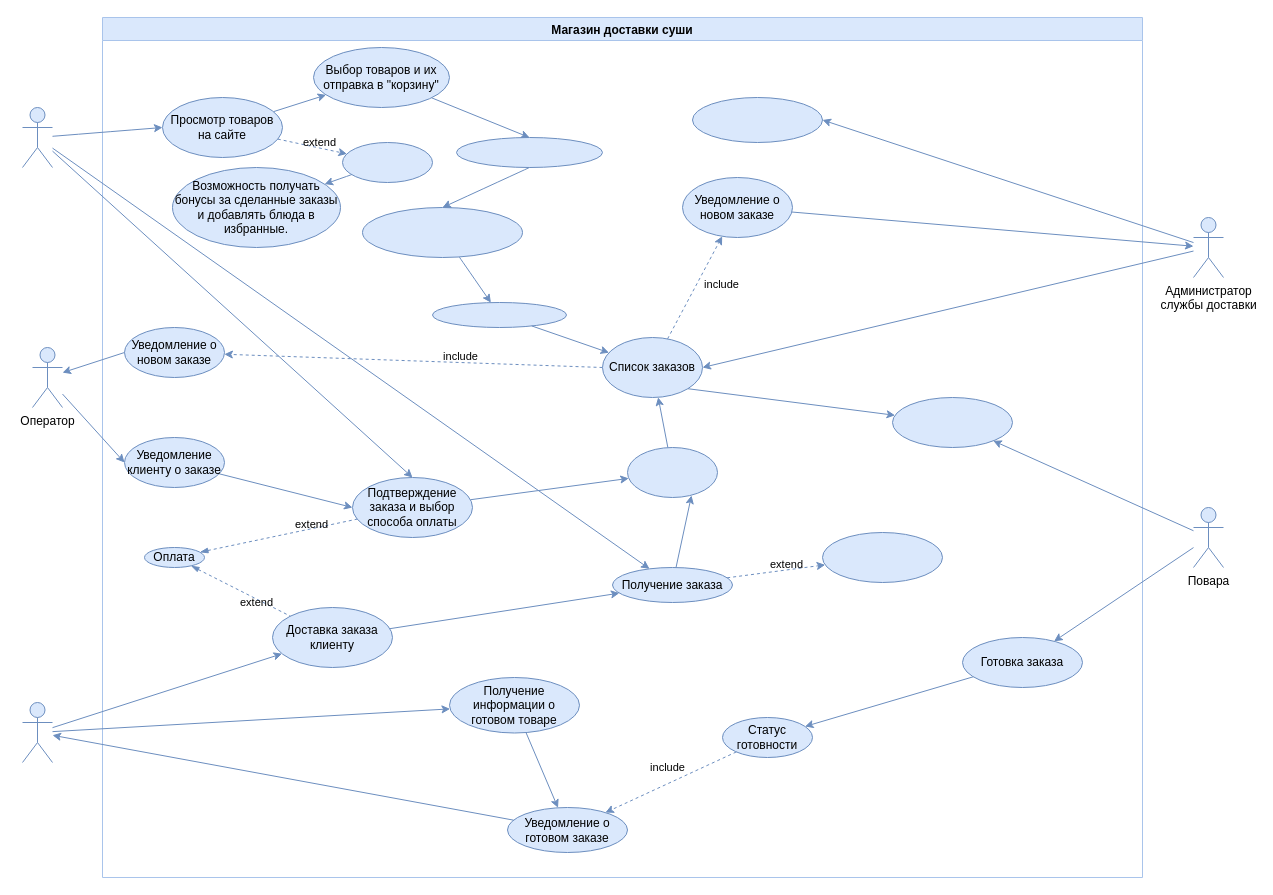
This 1273x895 diagram has some shape labels left out. The shapes that lost their labels are listed below. From the top down, each one's centre as x and y in pixels, then its label:
point (37, 137): Клиент
point (757, 119): Контролирование работы персонала
point (387, 162): Регистрация
point (529, 152): Просмотр корзины
point (442, 232): Заполнение данных: адреса, телефона и т.д.
point (499, 315): Создание заказа
point (952, 422): Получение информации о товаре
point (672, 472): Обновление информации о товаре
point (882, 557): Возможность оставить отзыв
point (37, 732): Курьер
